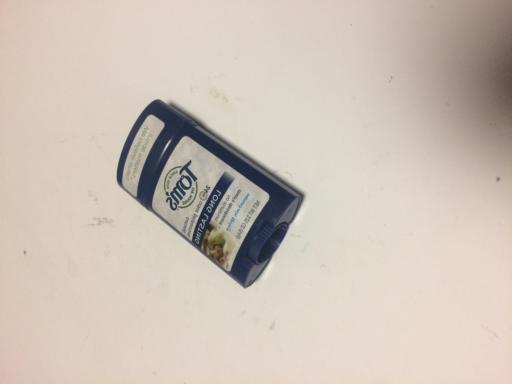trash: (115, 98, 307, 291)
